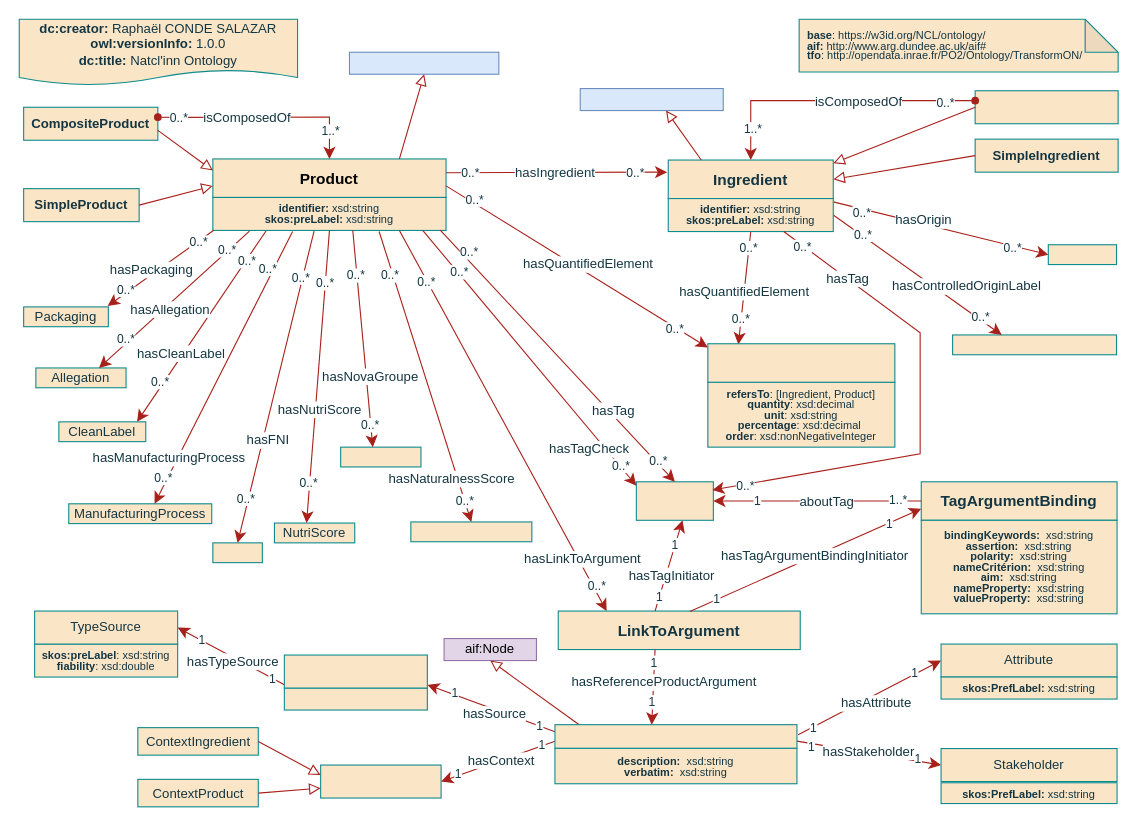
This 1137x828 diagram has some shape labels left out. Each missing label, with the box of its shape:
CompositeIngredient: (974, 90, 1118, 124)
Context: (320, 764, 441, 798)
ControlledOriginLabel: (952, 334, 1116, 355)
FNI: (212, 542, 262, 563)
NaturalnessScore: (410, 521, 532, 542)
NovaGroupe: (340, 446, 421, 467)
Origin: (1047, 244, 1116, 265)
ProductArgument: (554, 724, 797, 748)
QuantifiedElement: (707, 343, 895, 382)
skos:preLabel : xsd:String: (283, 687, 427, 710)
Source: (283, 654, 427, 688)
Tag: (635, 481, 713, 520)
tfo:food ingredient: (579, 87, 723, 111)
tfo:processed food: (348, 51, 499, 74)
